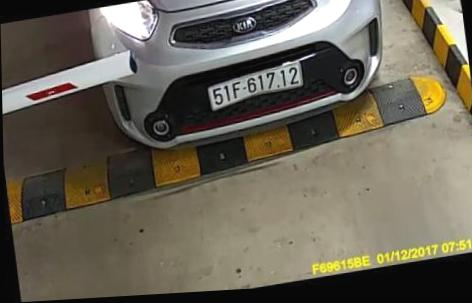License_Plate: (205, 63, 310, 118)
